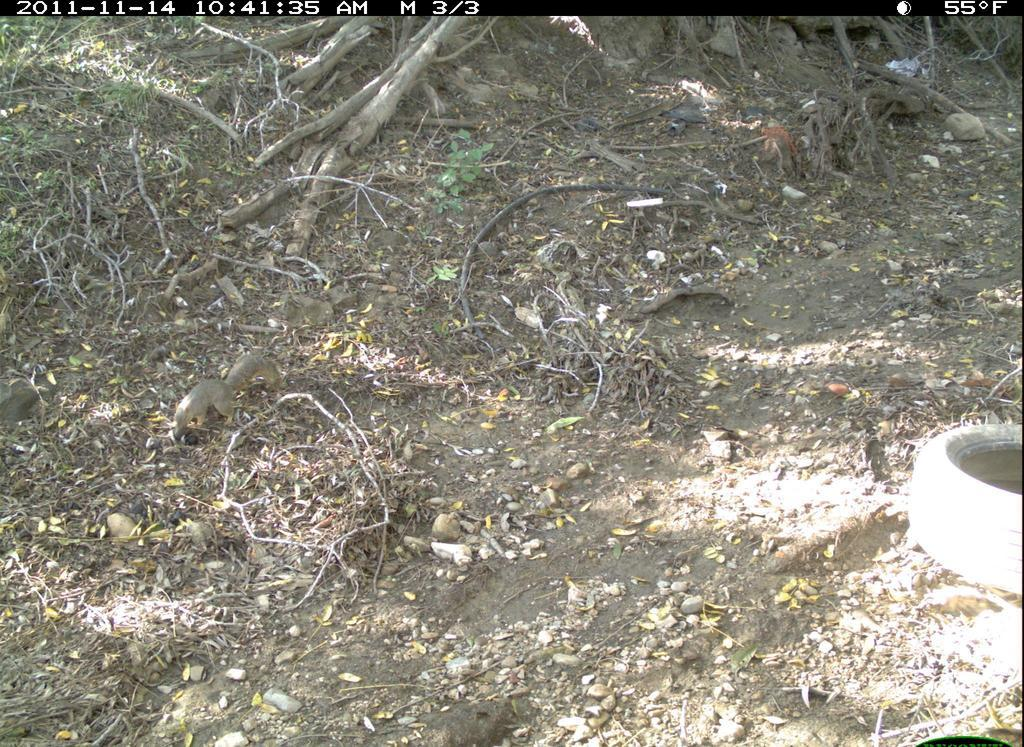squirrel: (152, 342, 299, 450)
